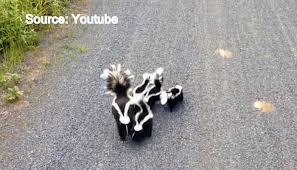skunk: (100, 65, 133, 136), (132, 96, 154, 141), (147, 65, 166, 101), (165, 82, 186, 110), (134, 70, 152, 94)
